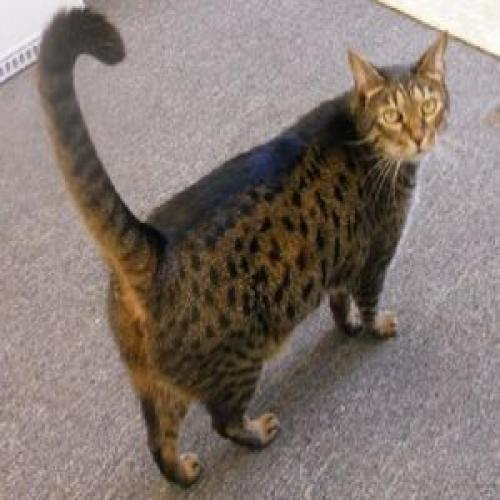bengal: (346, 33, 453, 172)
